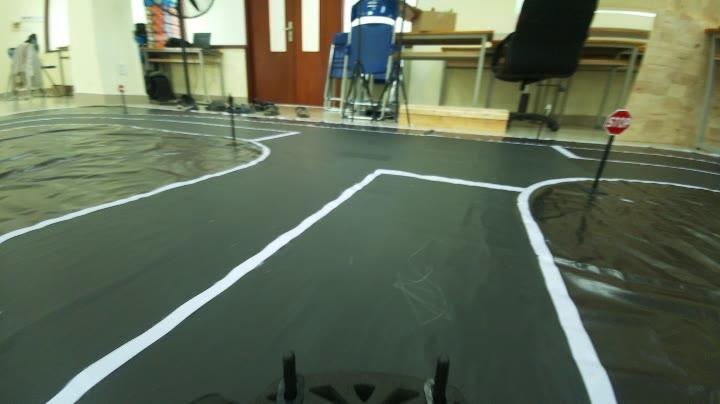stop: (603, 101, 634, 140)
